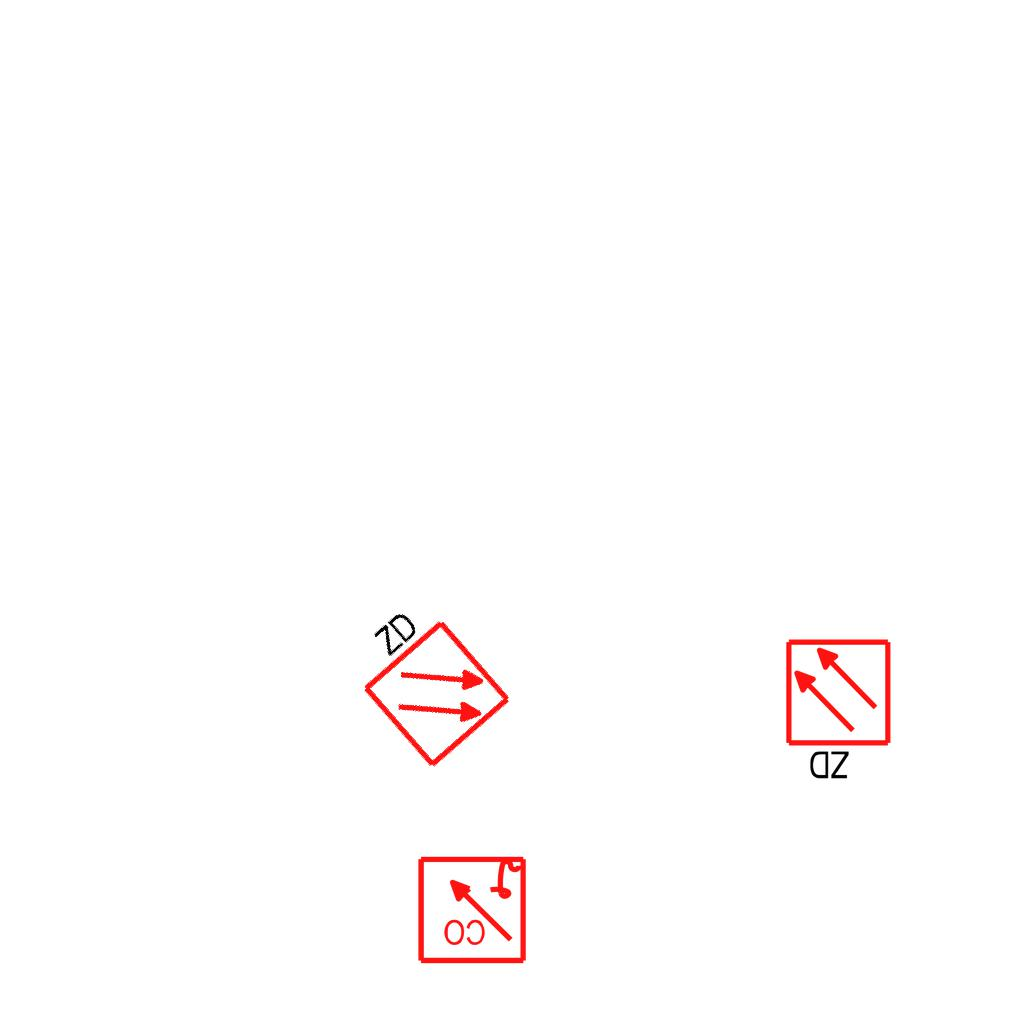ROA_Rauchmelder_optisch_mit_Signalgeber_(Sockelsirene): (415, 852, 528, 965)
ZD_Melder_in_Zwischendecke_mit_Revisionsoeffnung_mind_40_x_40_cm: (331, 586, 515, 775), (783, 637, 897, 786)
